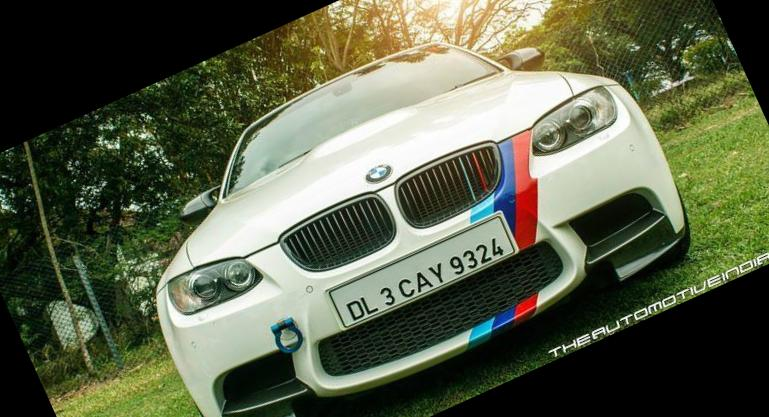plate: (320, 210, 525, 347)
